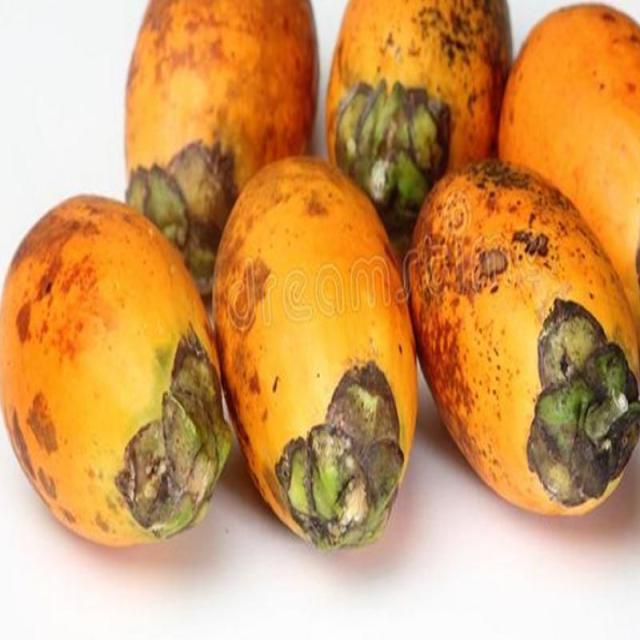good: (403, 158, 639, 520), (0, 196, 235, 550), (211, 156, 419, 552), (124, 0, 318, 300), (327, 0, 514, 252), (498, 5, 639, 316)
